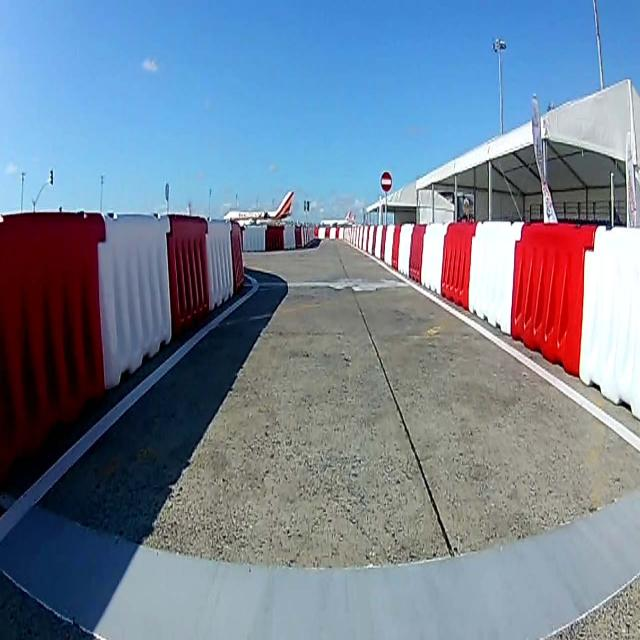girisyok: (380, 170, 393, 193)
